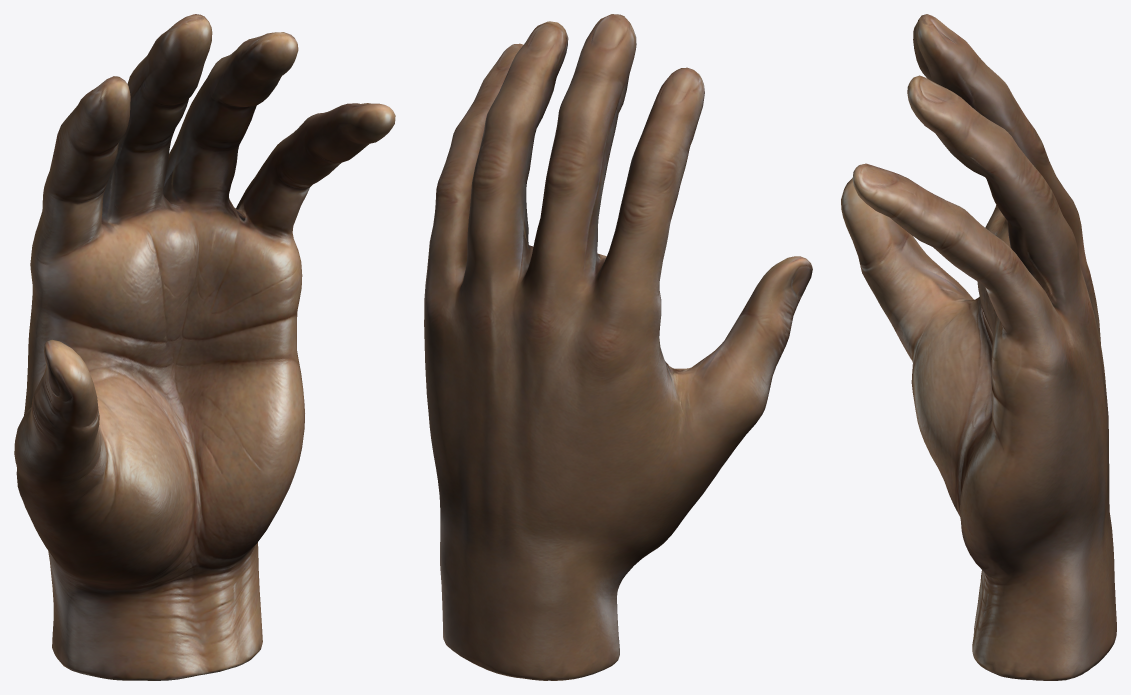
File: hands.glb
3 renders of one model, left to right at view 1: azimuth 30°, elevation 25°; view 2: azimuth 150°, elevation 25°; view 3: azimuth 270°, elevation 25°, orthographic. The views are drawn at different scales.
Parts seen in each view (by area): view 1: Mesh1_Mesh1.078; view 2: Mesh1_Mesh1.078; view 3: Mesh1_Mesh1.078.
Part boxes in pixels (x1,y1,x2,y2): Mesh1_Mesh1.078: (14, 14, 395, 680); Mesh1_Mesh1.078: (424, 14, 812, 680); Mesh1_Mesh1.078: (841, 14, 1116, 680).
Size of the model in its own units: 0.1042 by 0.1947 by 0.0793.
1 material, 1 textured.
